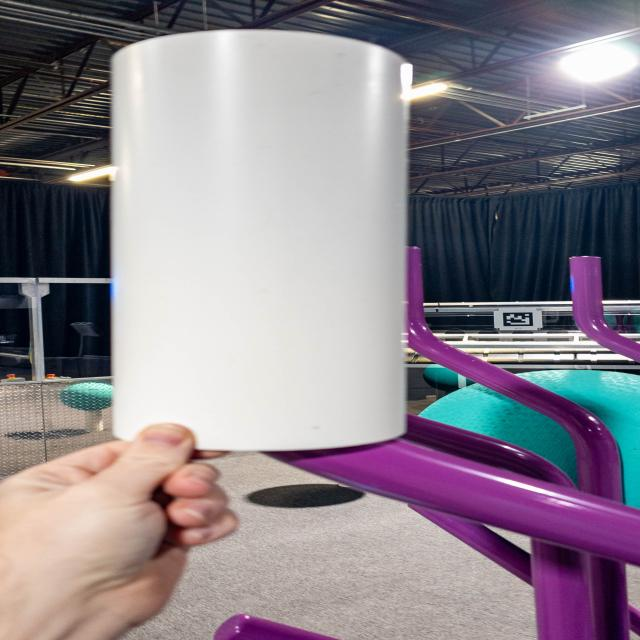Algae: (415, 370, 640, 512)
Coral: (115, 29, 411, 451)
